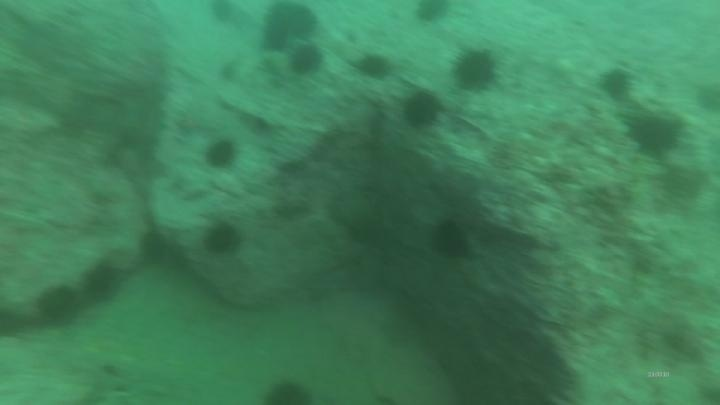echinus: (625, 110, 685, 158), (450, 46, 500, 94), (34, 282, 82, 328), (656, 163, 707, 204), (428, 217, 473, 263), (272, 5, 325, 43), (400, 87, 444, 131), (80, 260, 123, 304), (201, 218, 243, 258), (261, 377, 314, 405), (287, 42, 325, 78), (202, 136, 240, 172), (597, 66, 635, 102), (353, 50, 394, 82), (137, 228, 171, 266), (259, 20, 293, 55), (412, 1, 453, 26), (693, 81, 720, 116), (206, 1, 238, 26)
